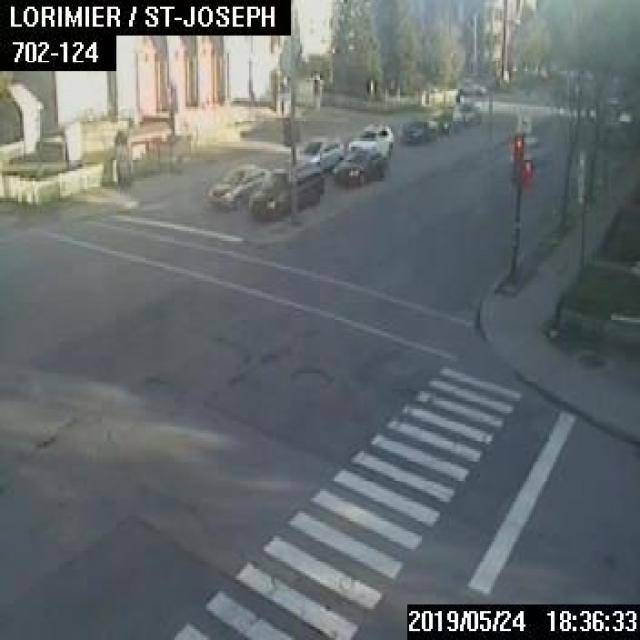vehicle: (248, 162, 323, 216), (208, 162, 268, 206), (331, 148, 385, 185), (348, 121, 392, 156), (294, 135, 340, 168), (396, 118, 436, 144), (451, 100, 480, 123), (435, 108, 459, 133), (458, 77, 484, 94)
